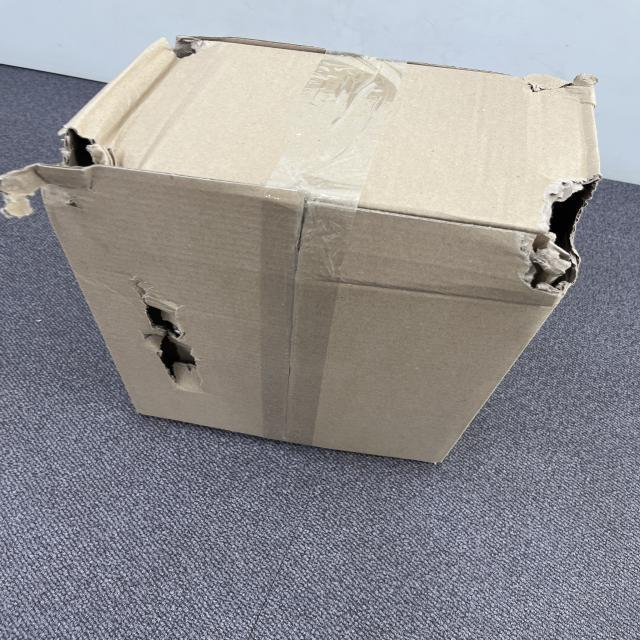hole: (515, 174, 601, 296), (139, 286, 207, 394), (48, 129, 108, 202)
